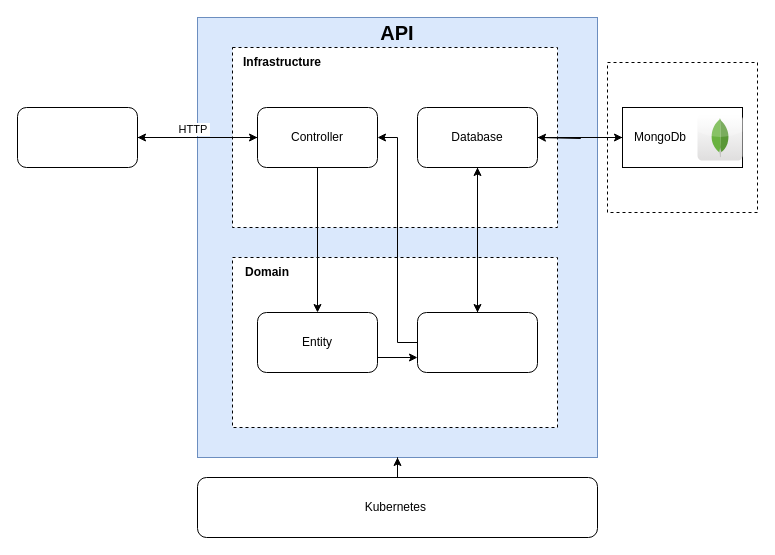
Image size: 775x555. Some labels were removed from this diagram. The shapes that lost their labels are listed below. From the top down, each one's box as (x1, y1, x2, y2) in pixels, then its label:
(16, 106, 138, 168): Client
(416, 312, 538, 372): Service
